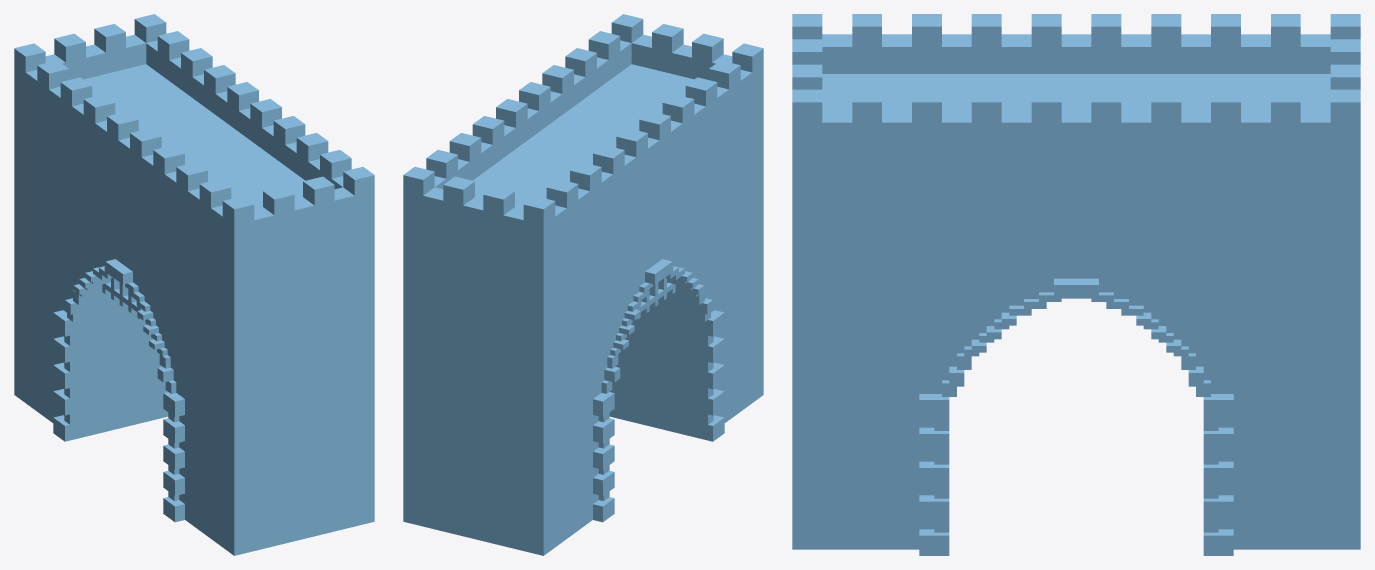
Rendered from BurgtorKleinerBuildingBlueprint.fbx.
3 renders of one model, left to right at view 1: azimuth 30°, elevation 25°; view 2: azimuth 150°, elevation 25°; view 3: azimuth 270°, elevation 25°, orthographic. The views are drawn at different scales.
Parts seen in each view (by area): view 1: BurgtorVerkleinert; view 2: BurgtorVerkleinert; view 3: BurgtorVerkleinert.
Part boxes in pixels (left/top/right/bottom): BurgtorVerkleinert: left=14, top=14, right=374, bottom=555; BurgtorVerkleinert: left=403, top=14, right=763, bottom=555; BurgtorVerkleinert: left=792, top=14, right=1360, bottom=555.
Bounding box in the file's own units: 320 × 660 × 760.
